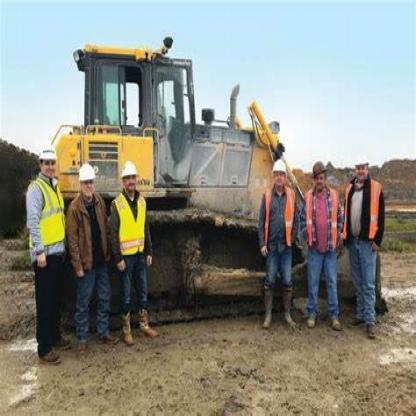person: (114, 149, 169, 366), (22, 138, 65, 373), (65, 147, 114, 353), (345, 139, 393, 336), (249, 156, 298, 333), (304, 143, 338, 334)
